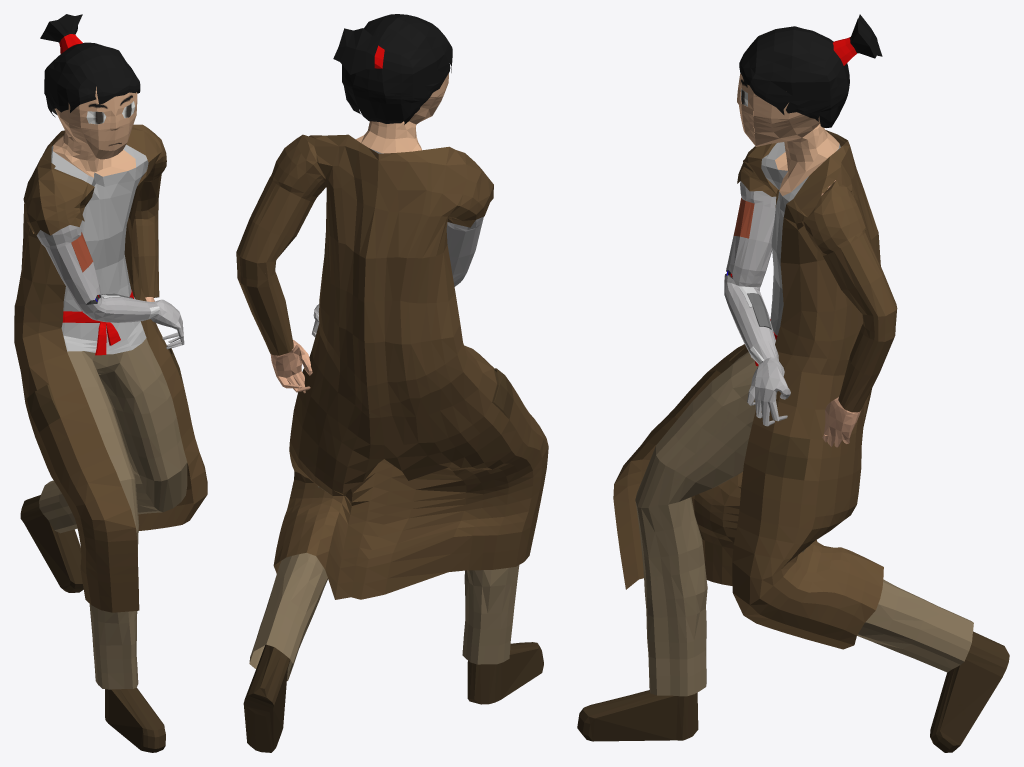
File: One_RB_000020.obj
3 views of the same model, side by side, from view 1: azimuth 30°, elevation 25°; view 2: azimuth 150°, elevation 25°; view 3: azimuth 270°, elevation 25° (orthographic). The views are drawn at different scales.
Parts seen in each view (by area): view 1: Hair_Cube.004; view 2: Hair_Cube.004; view 3: Hair_Cube.004.
Boxes of the visible parts, left/top/right/bottom form: Hair_Cube.004: left=14, top=14, right=207, bottom=752; Hair_Cube.004: left=236, top=14, right=548, bottom=752; Hair_Cube.004: left=577, top=14, right=1009, bottom=752.
Bounding box in the file's own units: 1.09 × 3.71 × 1.98.
